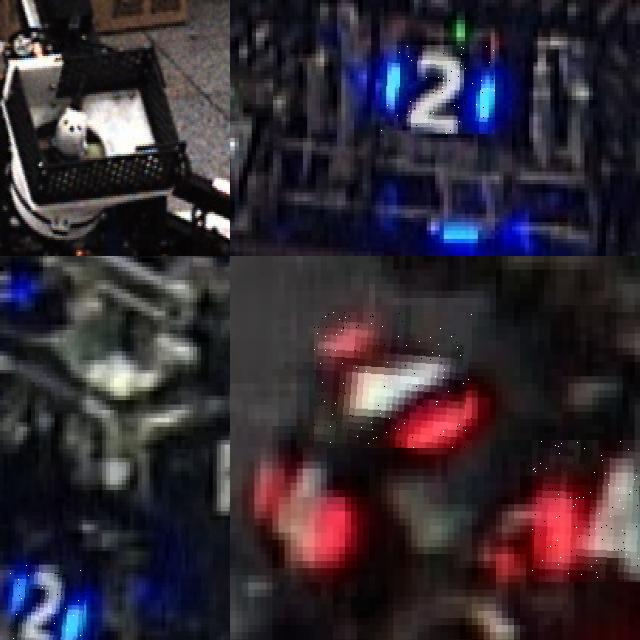B2: (380, 45, 495, 134), (7, 564, 86, 640)
R4: (314, 312, 472, 448), (532, 440, 640, 582), (248, 440, 357, 576)
